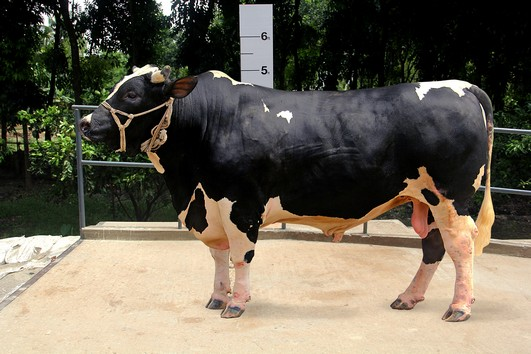cow: (77, 58, 495, 325)
